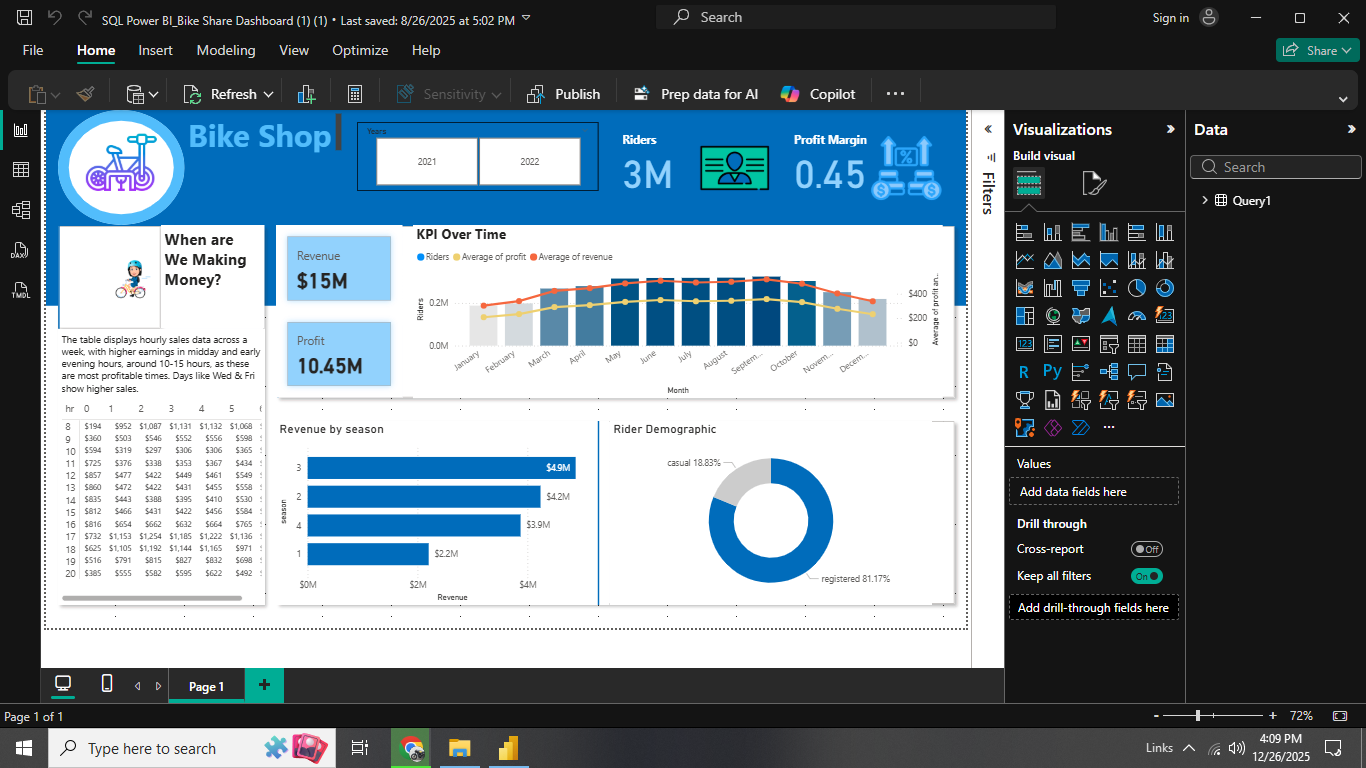

What the dashboard file says about the page in this screenshot:
{"tool":"powerbi","page":{"name":"Page 1","canvas":[1280,720],"ordinal":0},"visuals":[{"type":"shape","box":[0,0,1280,272],"z":0},{"type":"cardVisual","fields":{"Data":["Query1.riders"]},"box":[0,144,320,560],"z":1000},{"type":"cardVisual","fields":{"Data":["Query1.riders"]},"box":[304,144,976,272],"z":2000},{"type":"cardVisual","fields":{"Data":["Query1.riders"]},"box":[304,416,976,288],"z":3000},{"type":"cardVisual","fields":{"Data":["Query1.riders"]},"box":[0,144,176,176],"z":4000},{"type":"pivotTable","fields":{"Rows":["Query1.hr"],"Columns":["Query1.weekday"],"Values":["Query1.revenue"]},"box":[16,400,288,288],"z":5000},{"type":"textbox","box":[160,160,144,144],"z":6000},{"type":"textbox","box":[16,304,288,96],"z":7000},{"type":"lineClusteredColumnComboChart","title":"KPI Over Time","fields":{"Y":["Query1.riders"],"Category":["Query1.dteday.Variation.Date Hierarchy.Year","Query1.dteday.Variation.Date Hierarchy.Month"],"Y2":["Query1.profit","Query1.revenue"]},"box":[528,160,736,240],"z":8000},{"type":"clusteredBarChart","fields":{"Category":["Query1.season"],"Y":["Query1.revenue"]},"box":[320,432,464,256],"z":9000},{"type":"donutChart","title":"Rider Demographic","fields":{"Category":["Query1.rider_type"],"Y":["Query1.riders"]},"box":[784,432,448,256],"z":10000},{"type":"shape","box":[752,432,32,256],"z":11000},{"type":"cardVisual","title":"KPI Over Time","fields":{"Data":["Query1.revenue","Query1.profit"]},"box":[320,160,176,240],"z":12000},{"type":"cardVisual","fields":{"Data":["Query1.riders","Query1.Profit Margin"]},"box":[784,16,480,128],"z":12001},{"type":"shape","box":[16,0,176,160],"z":12002},{"type":"image","box":[48,16,112,112],"z":12003},{"type":"textbox","box":[192,0,224,64],"z":12004},{"type":"slicer","fields":{"Values":["Query1.Years"]},"box":[432,16,336,96],"z":12005}]}

Visuals, with their boxes on the page's 1280x720 design canvas (x1, y1, x2, y2). These are canvas units, not pixel positions in the 1366x768 screenshot, which may show the page scaled, cropped or inside an application window:
shape: Rect(0, 0, 1280, 272)
cardVisual - Query1.riders: Rect(0, 144, 320, 704)
cardVisual - Query1.riders: Rect(304, 144, 1280, 416)
cardVisual - Query1.riders: Rect(304, 416, 1280, 704)
cardVisual - Query1.riders: Rect(0, 144, 176, 320)
pivotTable - Query1.hr x Query1.weekday: Rect(16, 400, 304, 688)
textbox: Rect(160, 160, 304, 304)
textbox: Rect(16, 304, 304, 400)
"KPI Over Time" lineClusteredColumnComboChart: Rect(528, 160, 1264, 400)
clusteredBarChart - Query1.season x Query1.revenue: Rect(320, 432, 784, 688)
"Rider Demographic" donutChart: Rect(784, 432, 1232, 688)
shape: Rect(752, 432, 784, 688)
"KPI Over Time" cardVisual: Rect(320, 160, 496, 400)
cardVisual - Query1.riders x Query1.Profit Margin: Rect(784, 16, 1264, 144)
shape: Rect(16, 0, 192, 160)
image: Rect(48, 16, 160, 128)
textbox: Rect(192, 0, 416, 64)
slicer - Query1.Years: Rect(432, 16, 768, 112)
